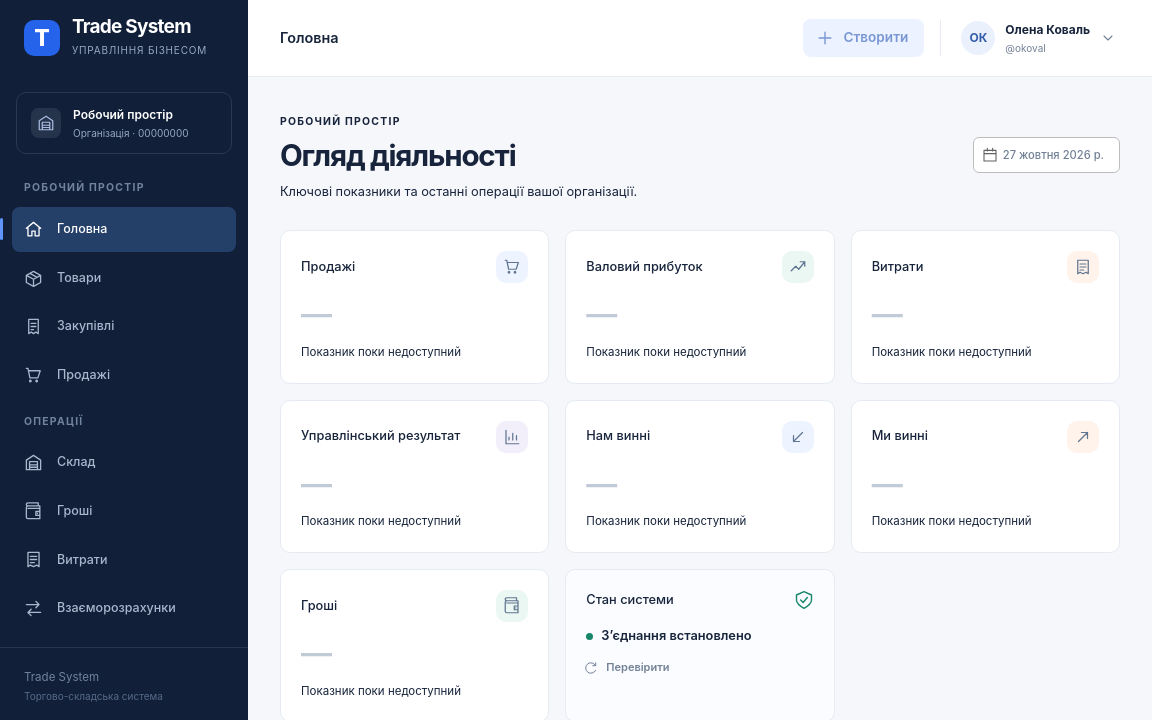
Test: authenticated application › keeps the session when logout fails and shows a retryable error
Expected: the heading "Огляд діяльності" is shown, [280,137,516,173]
What coordinates should you click on to do the following:
click the button with aria-label "Меню користувача Олена Коваль"
I would click on:
 (1039, 38)
Its box is [957,14,1120,62].
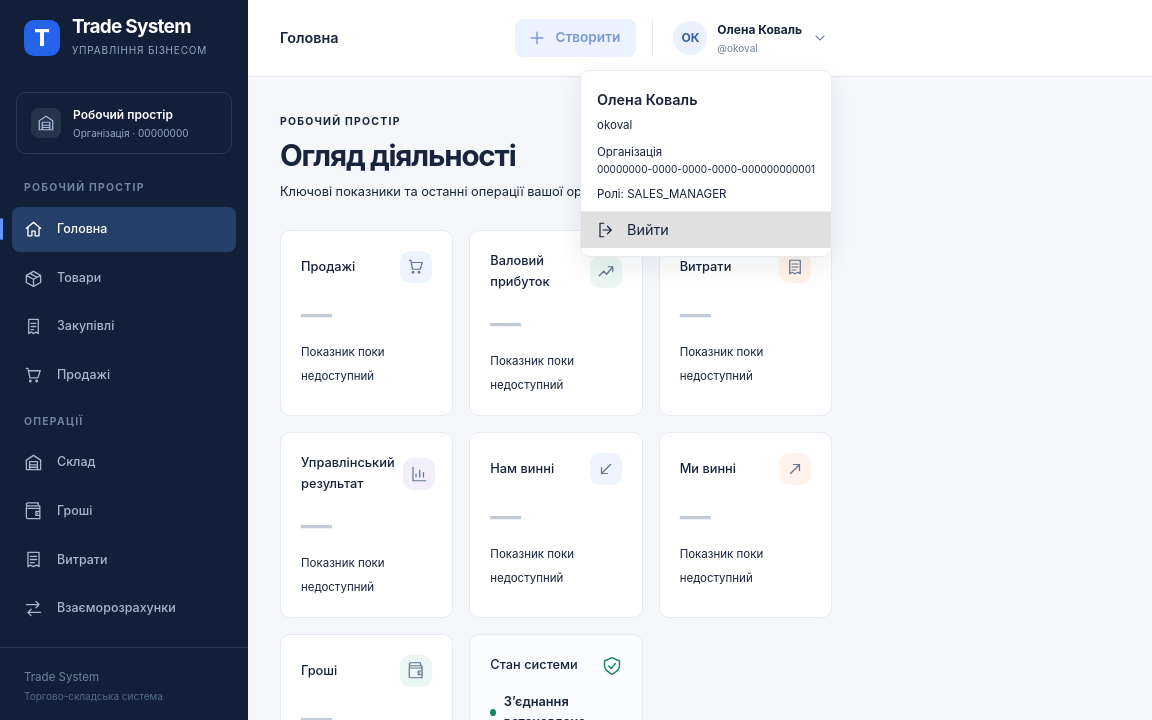
What coordinates should you click on to do the following:
click the menu item "Вийти"
I would click on:
 (706, 230)
Its box is [581,212,831,248].
(page scrolled)
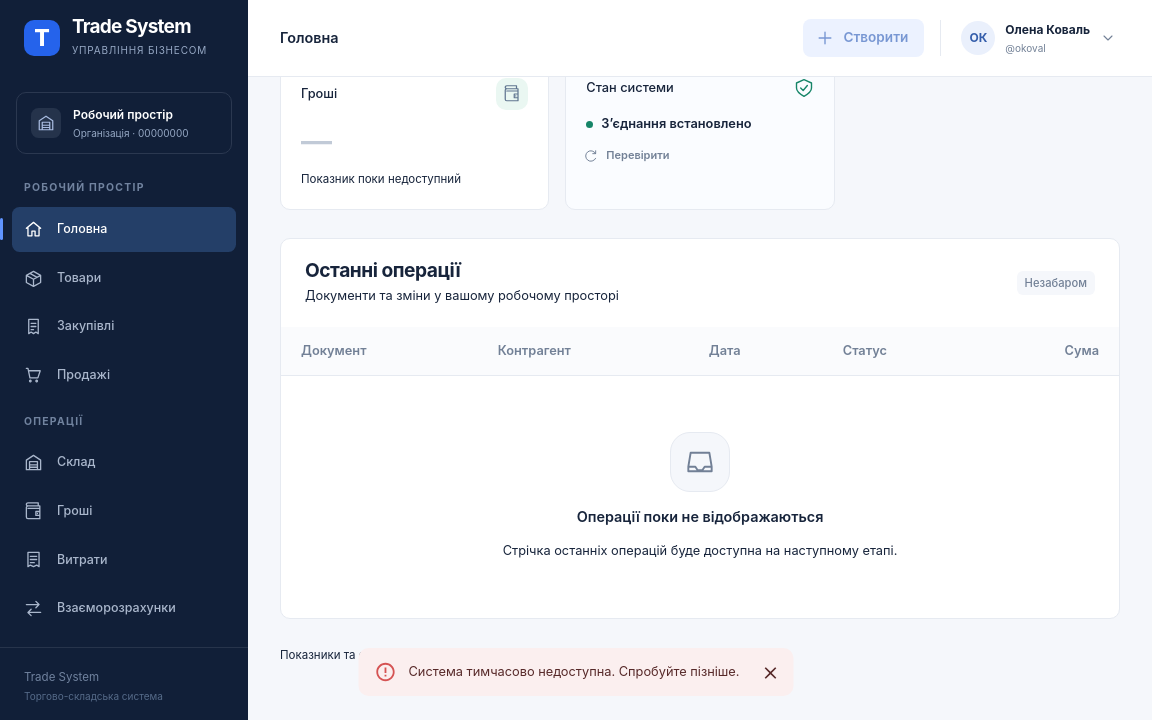
Expected: the message shows "Система тимчасово недоступна", [408,664,740,678]
